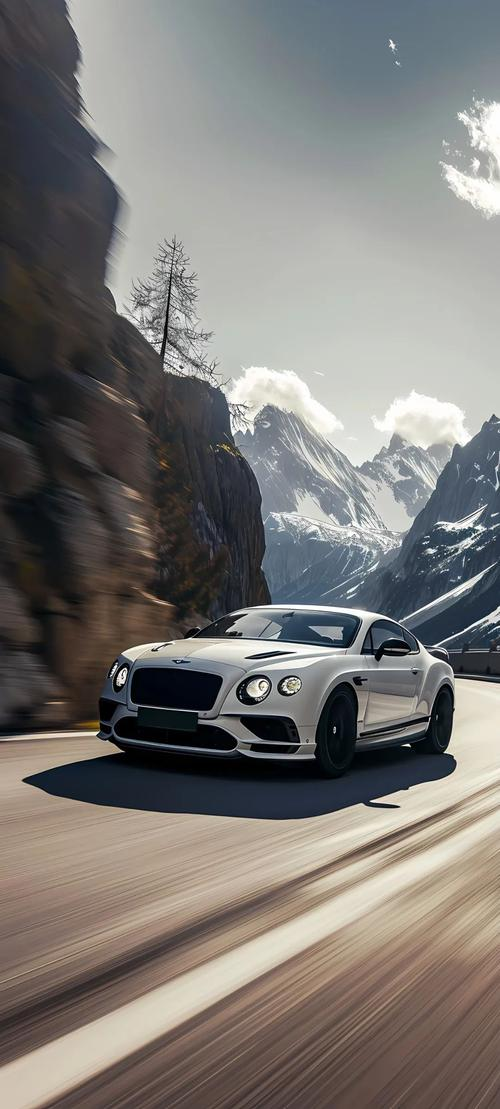汽车: (105, 597, 469, 788)
